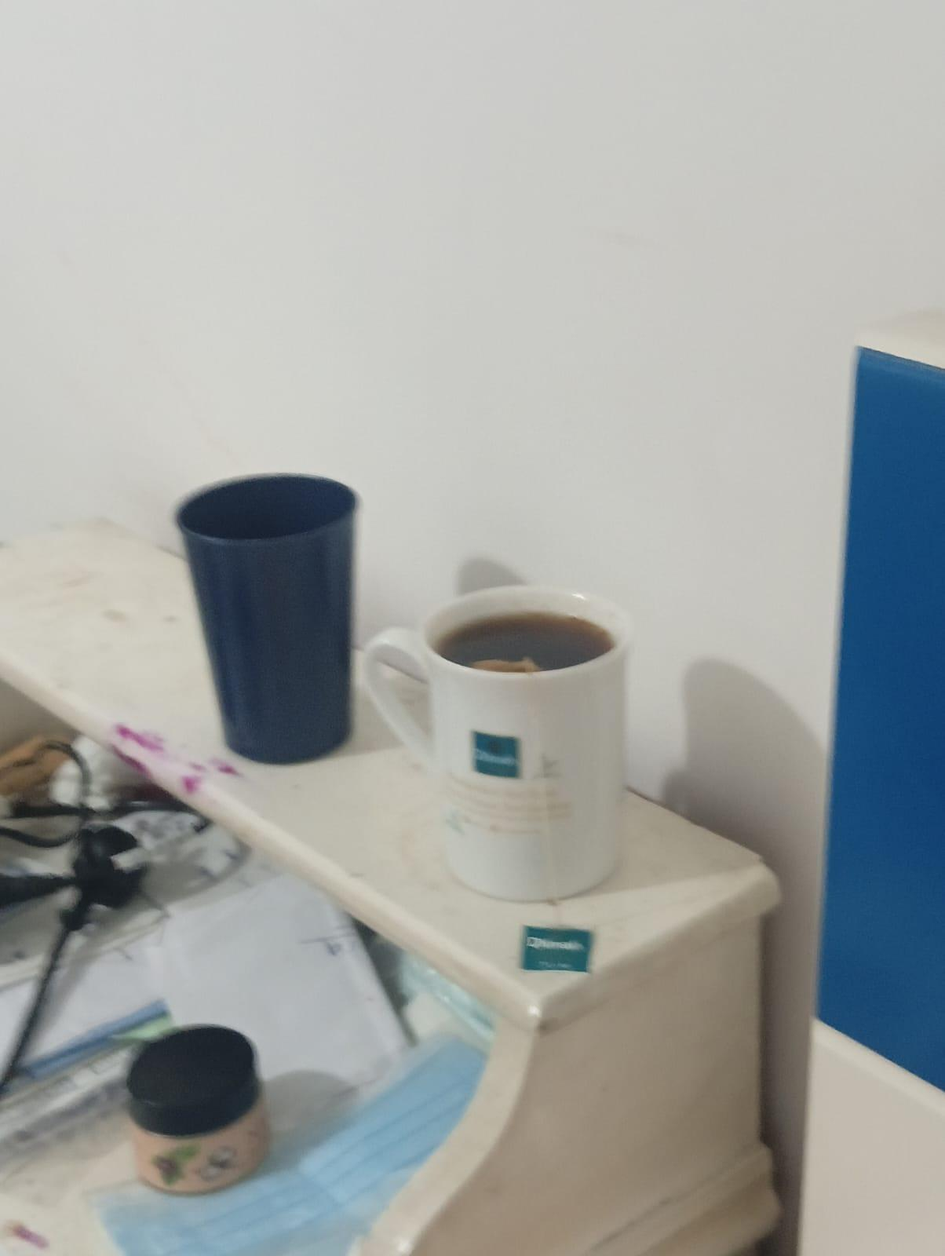cup: (365, 586, 629, 900), (177, 475, 356, 763)
